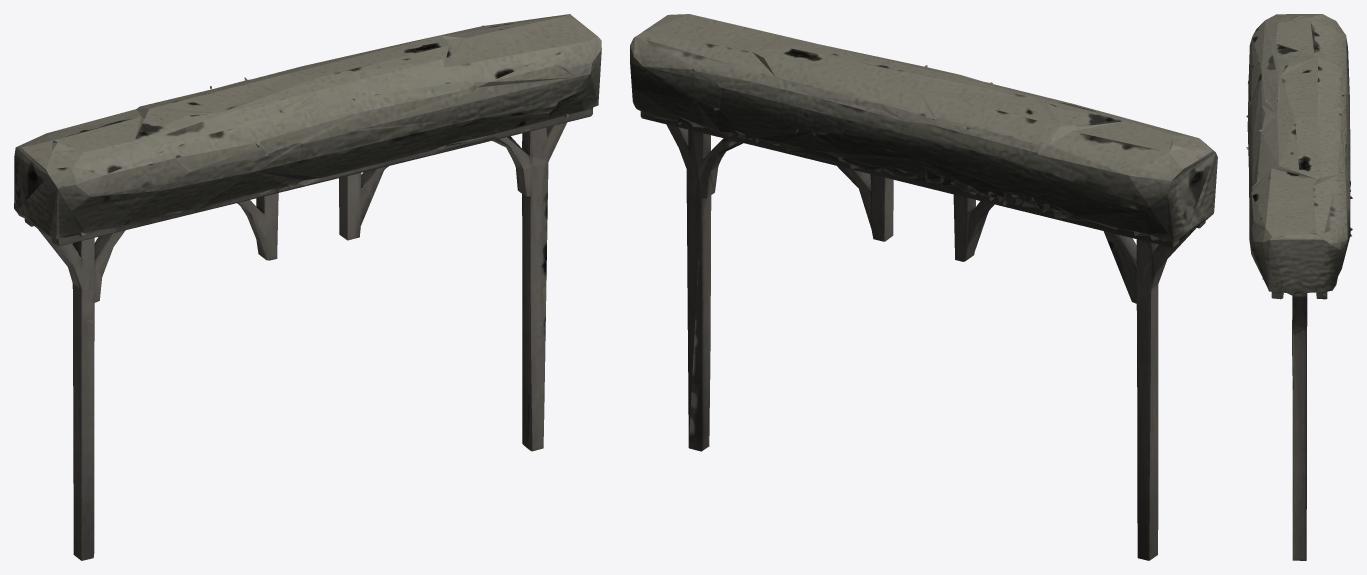
The model's file is char_bush_01.glb.
3 views of the same model, side by side, from view 1: azimuth 30°, elevation 25°; view 2: azimuth 150°, elevation 25°; view 3: azimuth 270°, elevation 25° (orthographic). The views are drawn at different scales.
Parts seen in each view (by area): view 1: geometry_0; view 2: geometry_0; view 3: geometry_0.
Part boxes in pixels (x1=…): geometry_0: x1=14, y1=14, x2=601, y2=560; geometry_0: x1=630, y1=14, x2=1217, y2=560; geometry_0: x1=1246, y1=14, x2=1352, y2=560.
Bounding box in the file's own units: 0.9925 × 0.7255 × 0.1985.
Materials: 1 (1 with a texture image).
